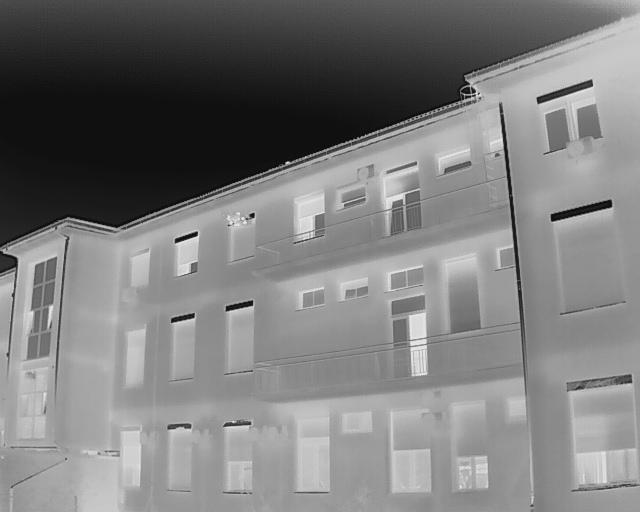drone: (217, 205, 257, 233)
